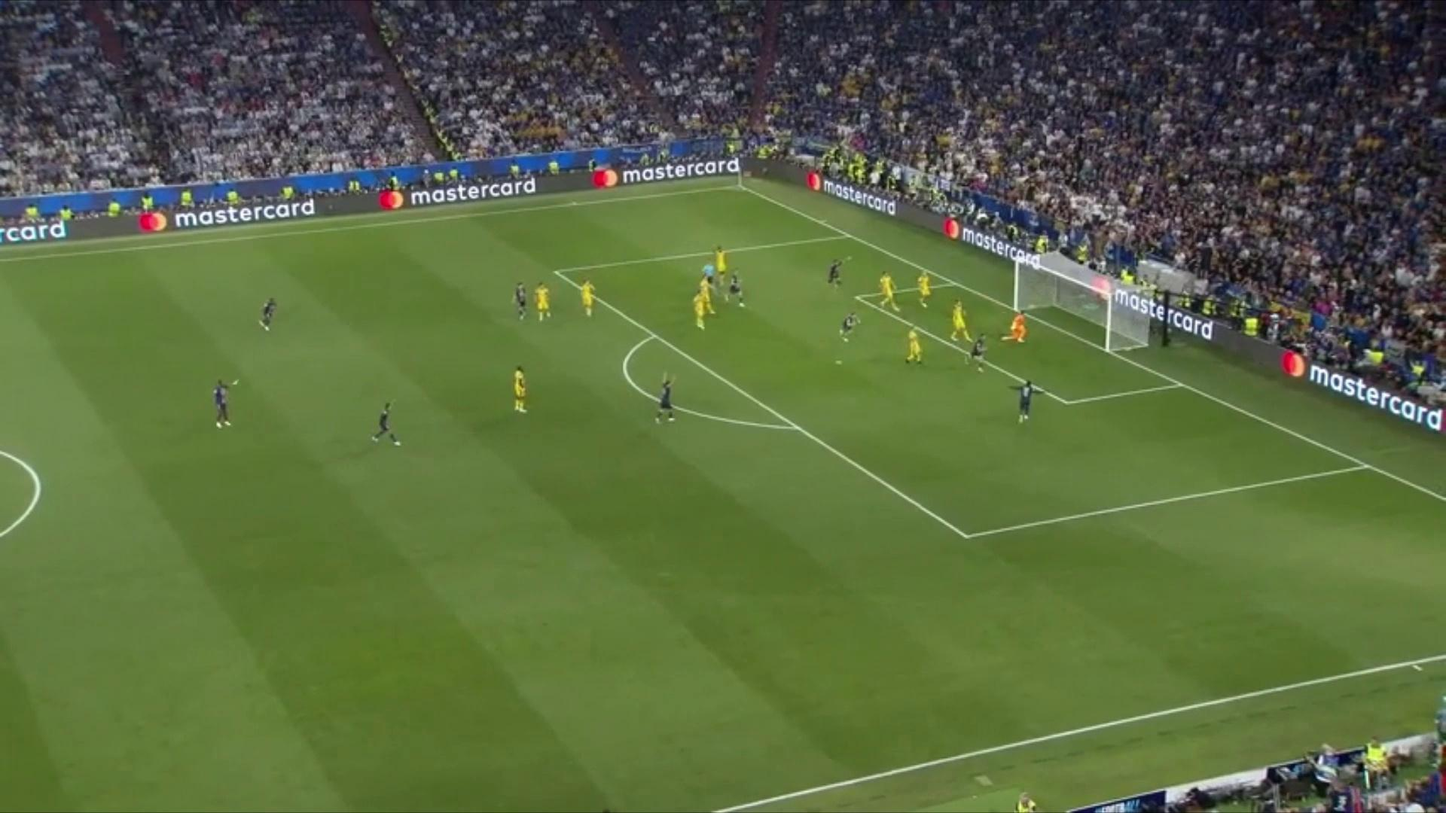player_A: (1008, 379, 1043, 422), (371, 400, 398, 443), (654, 371, 676, 423), (212, 381, 232, 427), (968, 335, 987, 371), (837, 312, 859, 343), (259, 297, 276, 330), (726, 271, 743, 304), (514, 282, 527, 321), (827, 258, 843, 288)
player_B: (948, 300, 970, 343), (691, 287, 711, 329), (877, 272, 897, 311), (904, 328, 923, 365), (533, 282, 551, 321), (513, 367, 527, 414), (579, 280, 596, 318), (700, 279, 717, 315), (915, 271, 931, 306), (713, 245, 727, 281)
player_B_goal_keeper: (1002, 311, 1028, 343)
referee: (701, 263, 718, 290)
